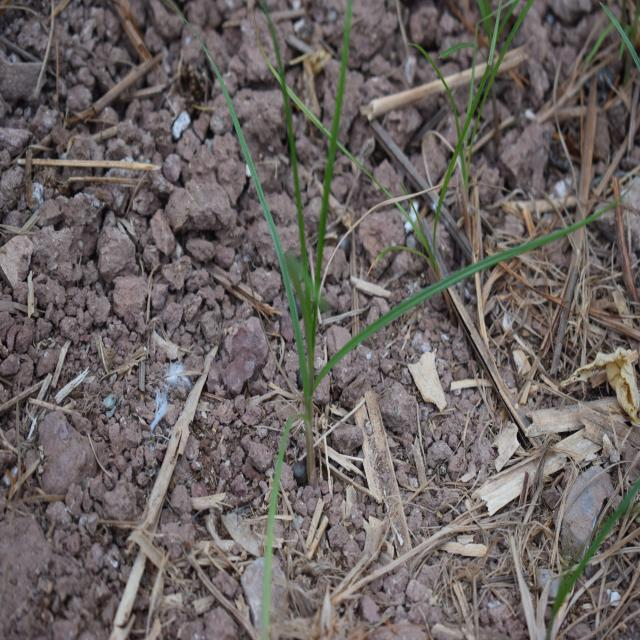sedge: (208, 22, 521, 470)
